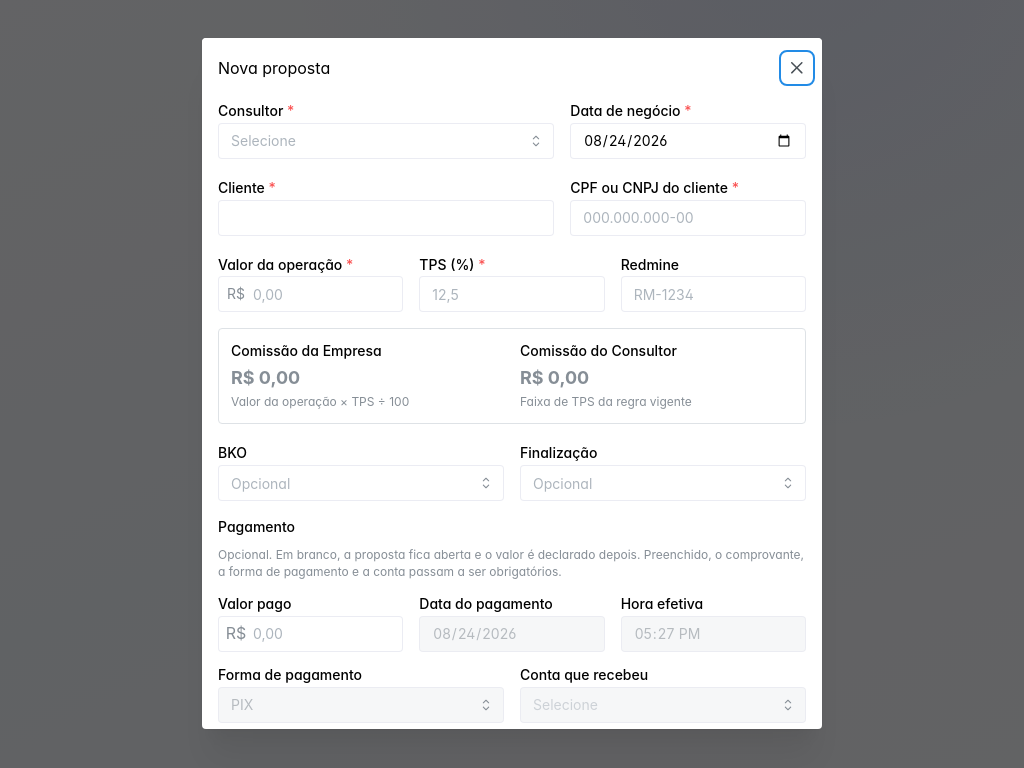
Test case: ProposalFormModal › recusa valor de operação zerado
The width and height of the screenshot is (1024, 768).
In the field labelled "Valor da operação *": {"x": 311, "y": 295} x1=218 y1=277 x2=403 y2=313, type "0"
(page scrolled)
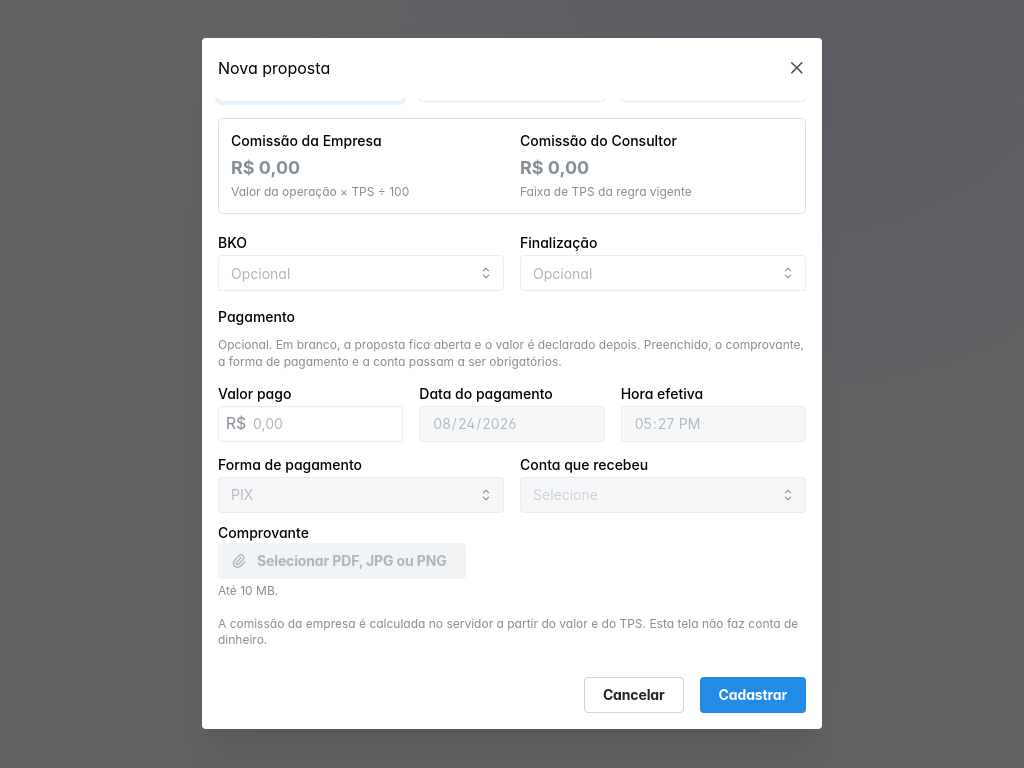
Click the button "Cadastrar": {"x": 753, "y": 696} x1=700 y1=678 x2=806 y2=714
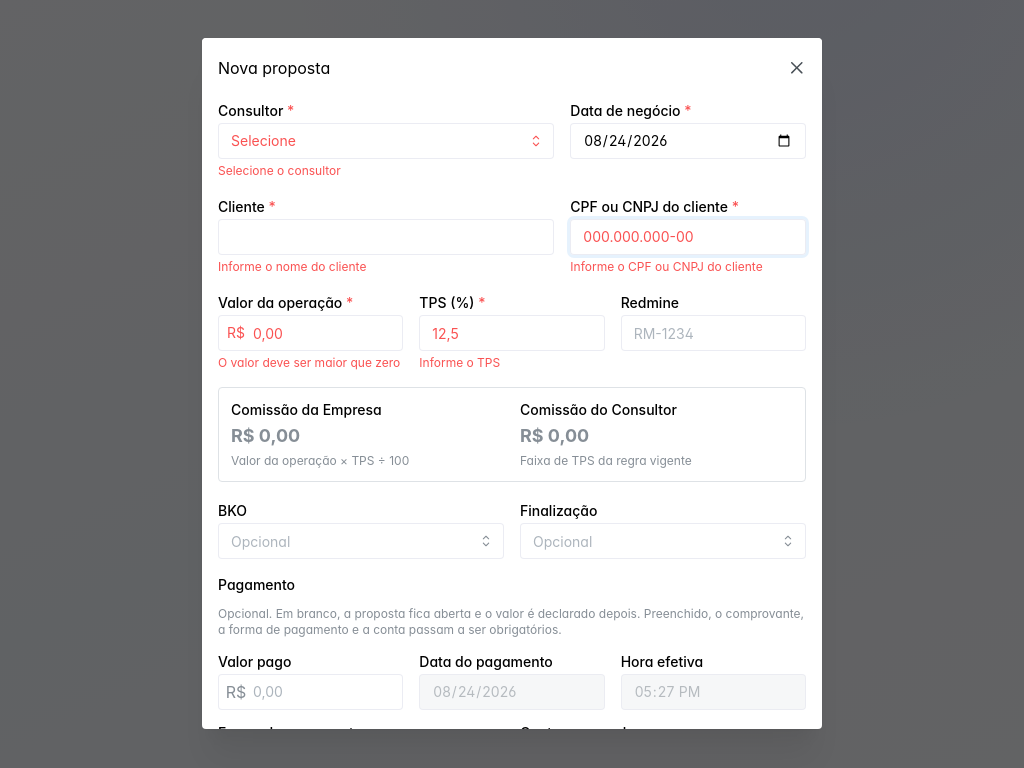
Expected: the text "O valor deve ser maior que zero" is shown, x1=218 y1=357 x2=403 y2=371
